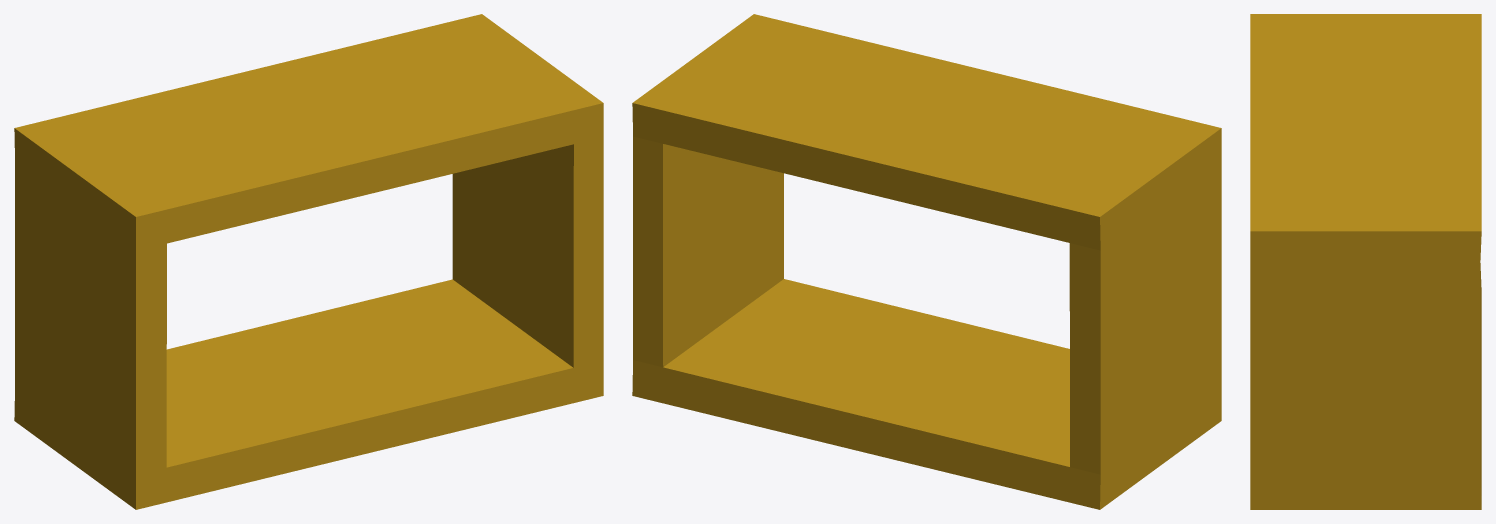
File: rectangle table gold.glb
The picture shows the model from 3 angles, left to right: view 1: azimuth 30°, elevation 25°; view 2: azimuth 150°, elevation 25°; view 3: azimuth 270°, elevation 25°; orthographic projection. The views are drawn at different scales.
Visible parts, largest first — view 1: rectangle table gold; view 2: rectangle table gold; view 3: rectangle table gold.
Part boxes in pixels (x1,y1,x2,y2): rectangle table gold: (14, 14, 603, 509); rectangle table gold: (632, 14, 1221, 509); rectangle table gold: (1250, 14, 1481, 509).
Bounding box in the file's own units: 1.55 × 0.9304 × 0.7.
